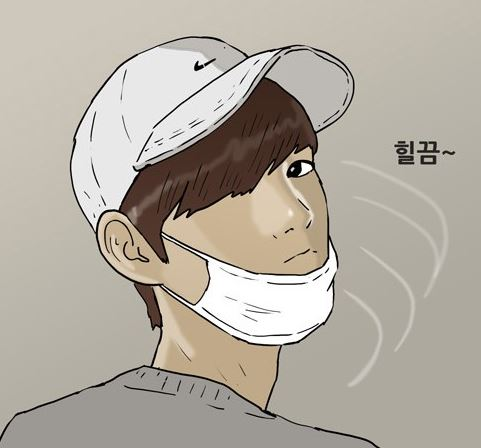hat: (58, 26, 356, 161)
